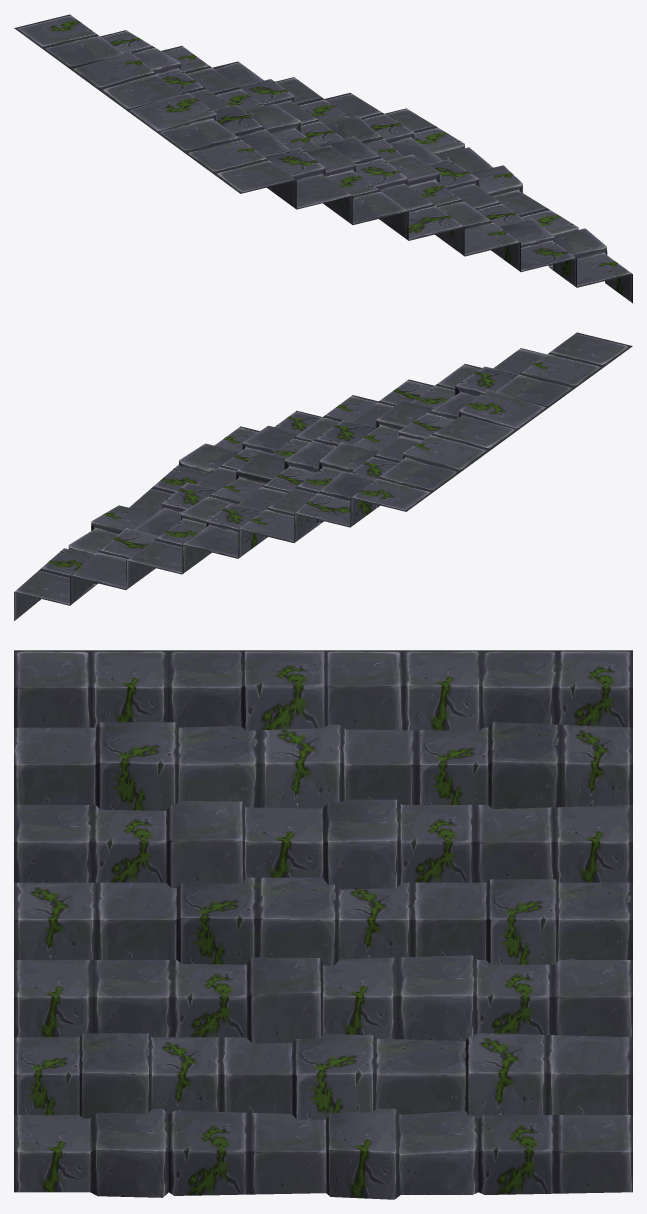
Rendered from MOD_Stairs_01_E_straight_3.fbx.
3 renders of one model, top to bottom at view 1: azimuth 30°, elevation 25°; view 2: azimuth 150°, elevation 25°; view 3: azimuth 270°, elevation 25°, orthographic. The views are drawn at different scales.
Visible parts, largest first — view 1: MOD_Stairs_01_E_straight_3; view 2: MOD_Stairs_01_E_straight_3; view 3: MOD_Stairs_01_E_straight_3.
Boxes of the visible parts, x1,y1,x2,y2 form: MOD_Stairs_01_E_straight_3: (14, 14, 632, 303); MOD_Stairs_01_E_straight_3: (14, 332, 632, 620); MOD_Stairs_01_E_straight_3: (14, 650, 632, 1199).
Size of what is drawn, in the model's own units: 412 by 203 by 400.
